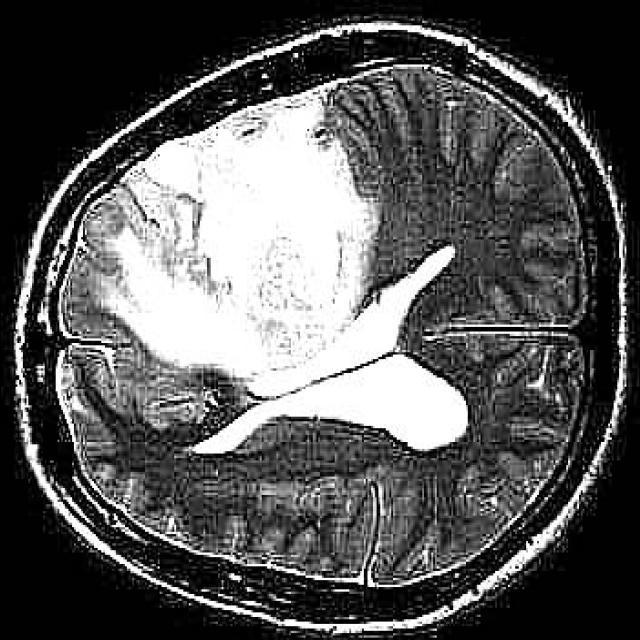tumor: (98, 85, 467, 454)
